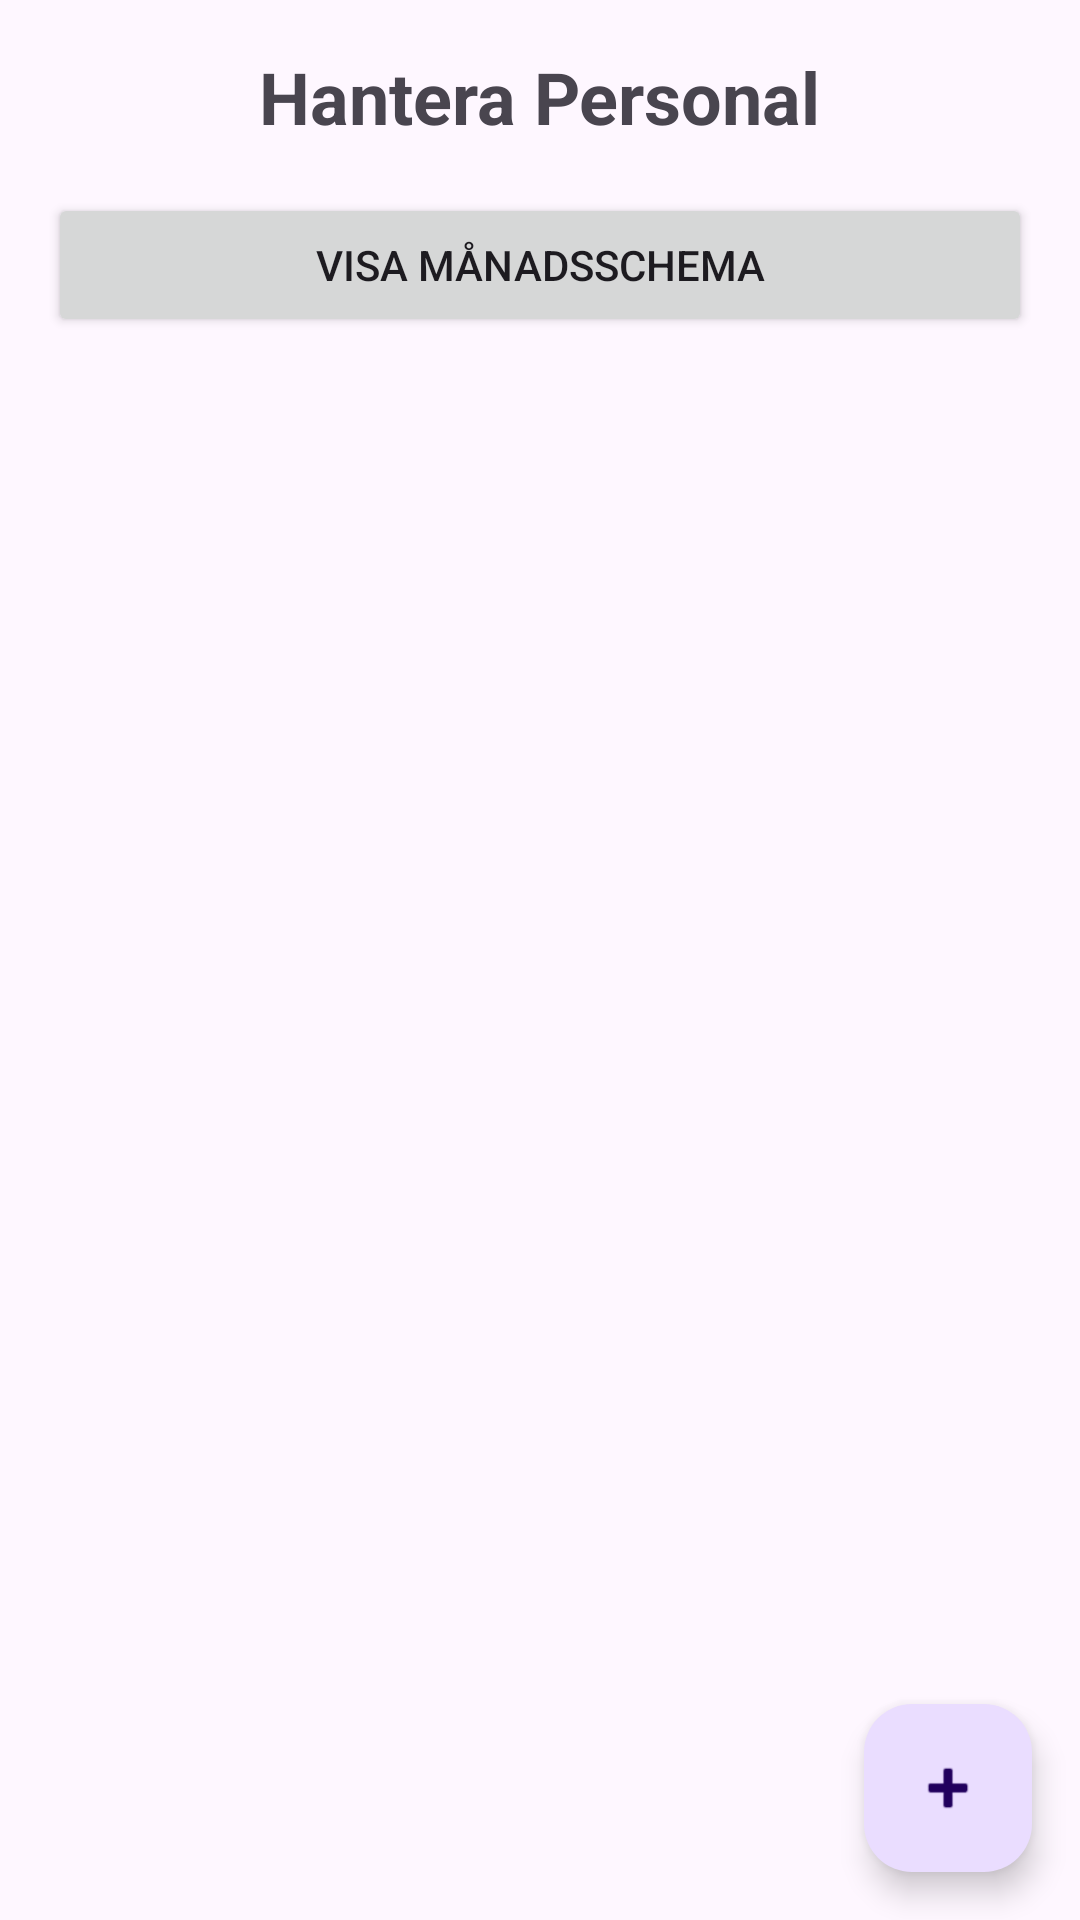

Where to tap for icons on this 1080w x 1920h app screen, as (x,y):
Add Employee: (948,1788)
